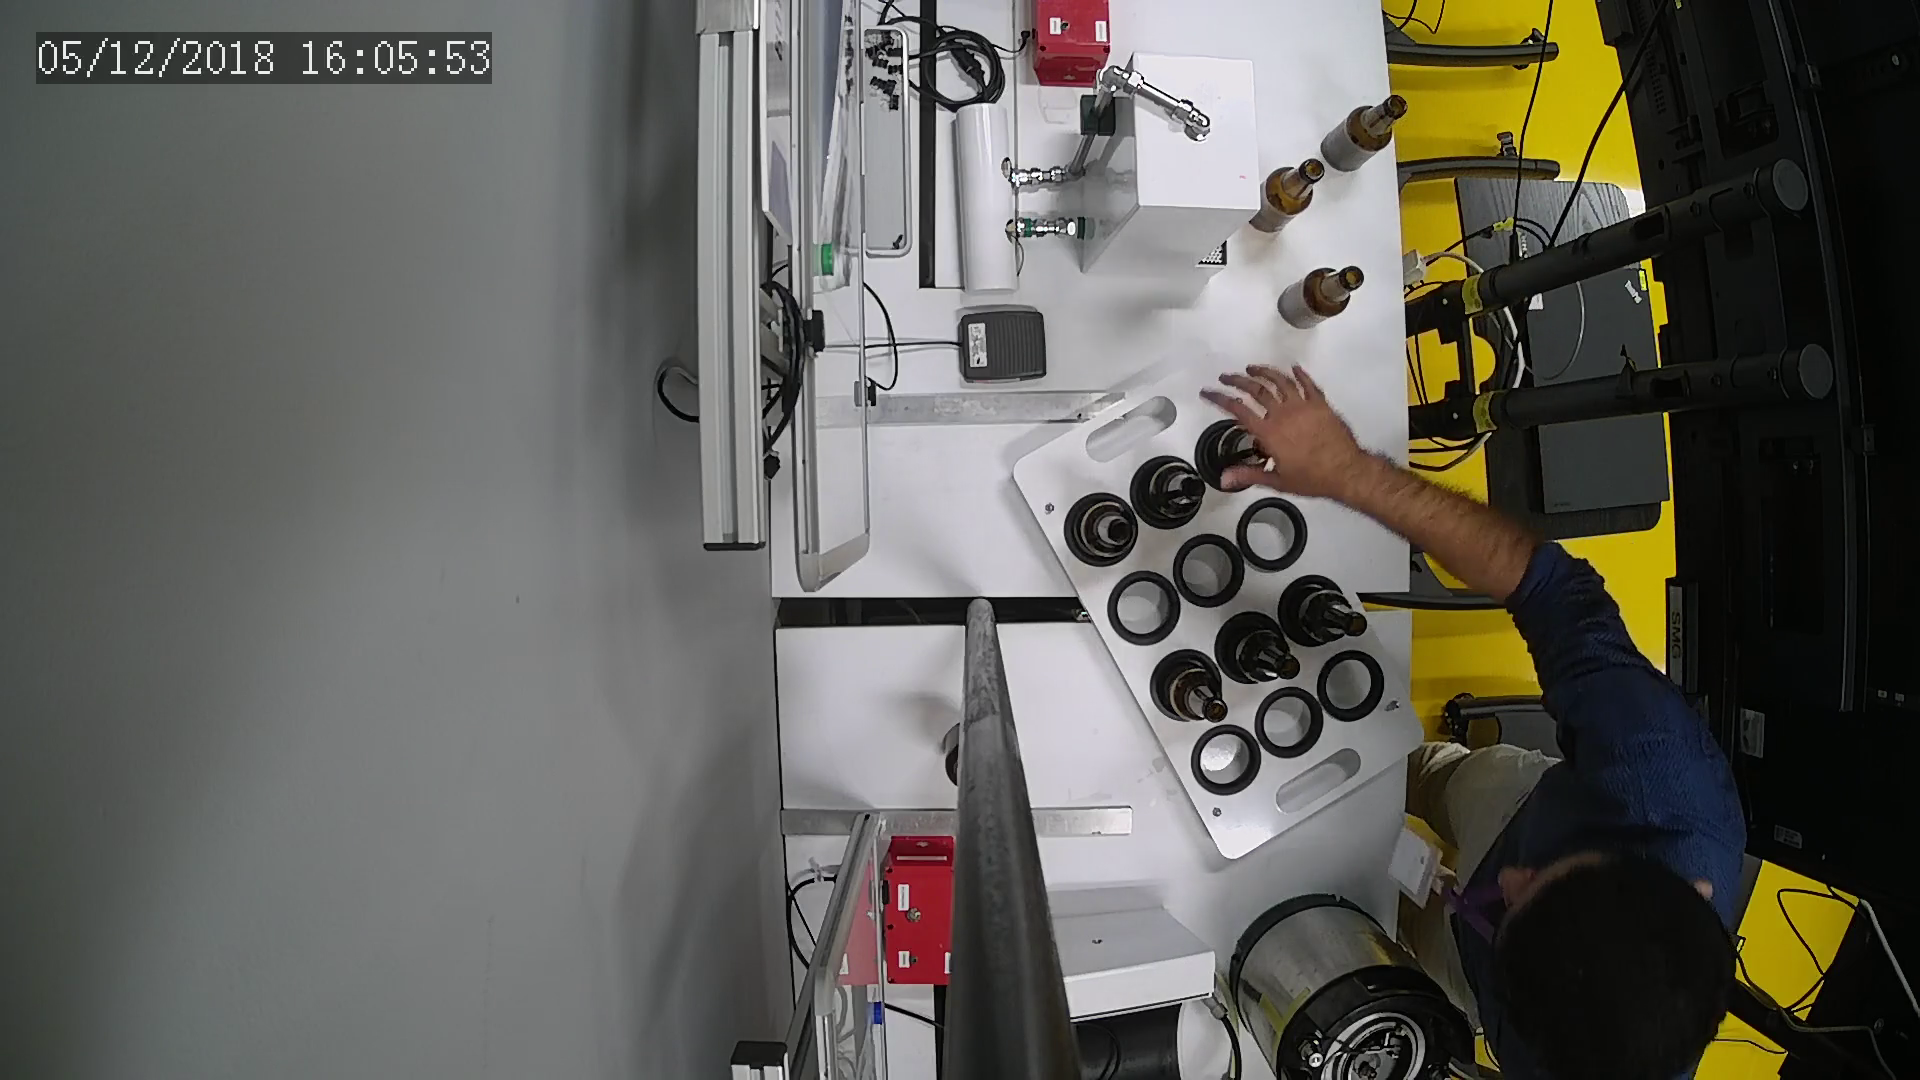filled_bottle: (1279, 576, 1371, 645), (1133, 455, 1212, 530), (1218, 616, 1303, 684), (1153, 651, 1233, 723), (1065, 495, 1139, 568), (1203, 415, 1273, 484)
trolley: (1011, 357, 1428, 866)
unfilled_bottle: (1324, 98, 1404, 171), (1251, 156, 1324, 236), (1279, 265, 1364, 330)
